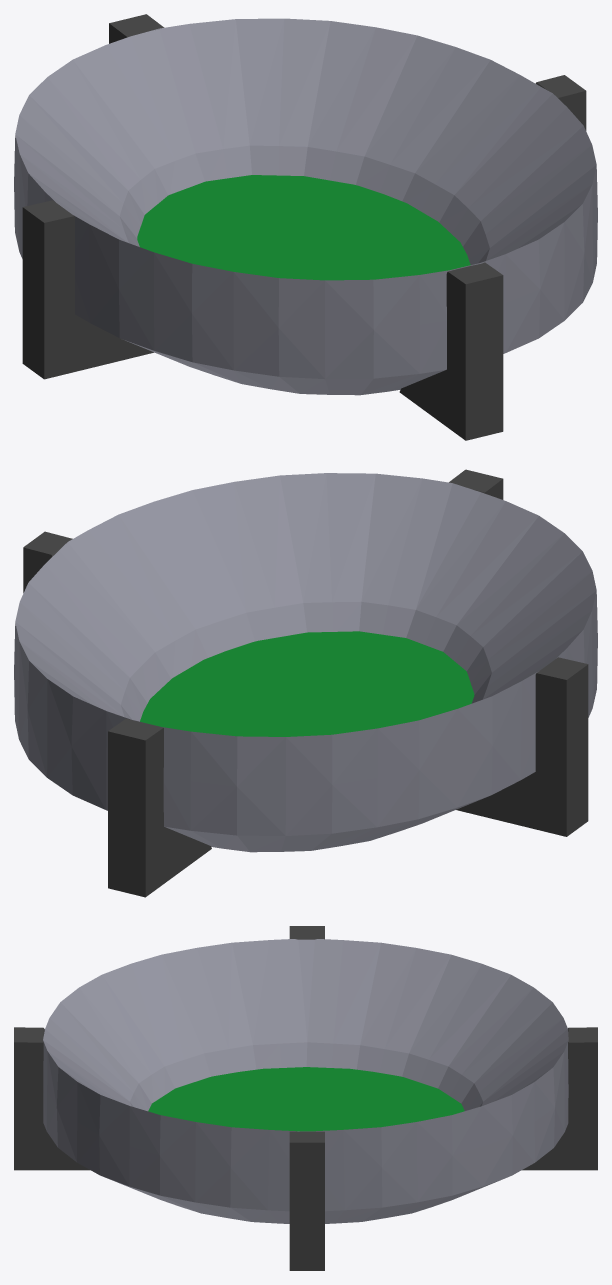
Rendered from Stadium.fbx.
3 renders of one model, top to bottom at view 1: azimuth 30°, elevation 25°; view 2: azimuth 150°, elevation 25°; view 3: azimuth 270°, elevation 25°, orthographic. The views are drawn at different scales.
Visible parts, largest first — view 1: pCylinder3, pDisc1, pasted__pCube1, pasted__pCube2, pasted__pasted__pCube1, pCube1; view 2: pCylinder3, pDisc1, pasted__pCube1, pCube1, pasted__pasted__pCube1, pasted__pCube2; view 3: pCylinder3, pDisc1, pasted__pCube2, pCube1, pasted__pasted__pCube1, pasted__pCube1.
Part boxes in pixels (bbox=[...]): pCylinder3: bbox=[14, 18, 597, 395]; pDisc1: bbox=[137, 175, 470, 280]; pasted__pCube1: bbox=[22, 200, 153, 379]; pasted__pCube2: bbox=[399, 262, 503, 440]; pasted__pasted__pCube1: bbox=[535, 75, 586, 130]; pCube1: bbox=[109, 14, 164, 43]; pCylinder3: bbox=[14, 473, 597, 852]; pDisc1: bbox=[140, 631, 474, 736]; pasted__pCube1: bbox=[456, 657, 588, 836]; pCube1: bbox=[108, 718, 211, 897]; pasted__pasted__pCube1: bbox=[23, 531, 72, 592]; pasted__pCube2: bbox=[449, 469, 503, 499]; pCylinder3: bbox=[43, 939, 568, 1223]; pDisc1: bbox=[148, 1067, 464, 1131]; pasted__pCube2: bbox=[14, 1027, 90, 1170]; pCube1: bbox=[522, 1027, 597, 1170]; pasted__pasted__pCube1: bbox=[289, 1131, 324, 1270]; pasted__pCube1: bbox=[289, 926, 324, 939].
Bounding box in the file's own units: 39.22 × 10.86 × 44.7.
